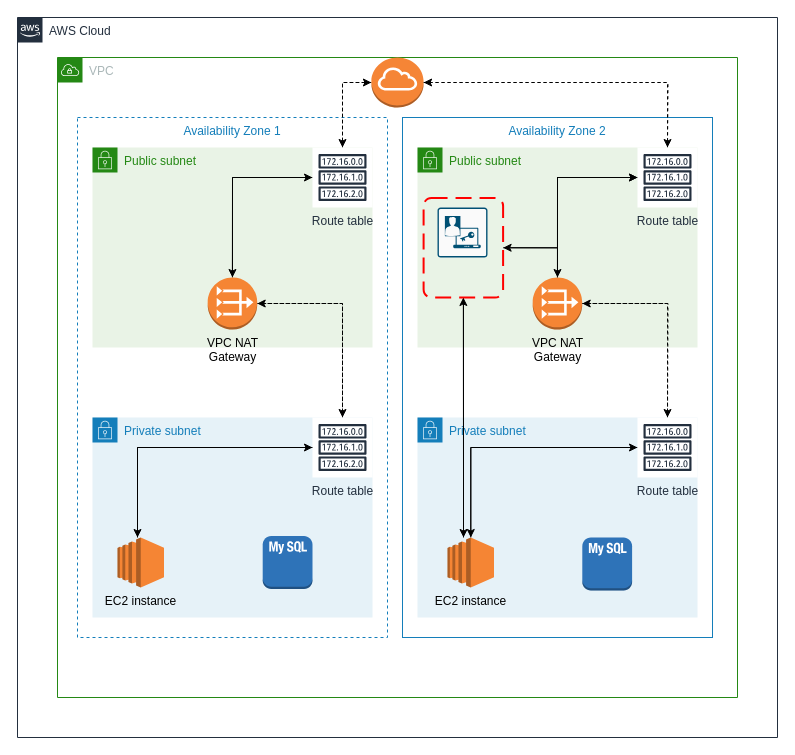
Some shapes in this 795 by 755 pixel diagram are drawn without their labels. Here are the shapes that lost their labels. From the top down, the box of each, then its label:
(370, 56, 424, 108): Internet Gateway
(436, 206, 488, 258): Bastion Host
